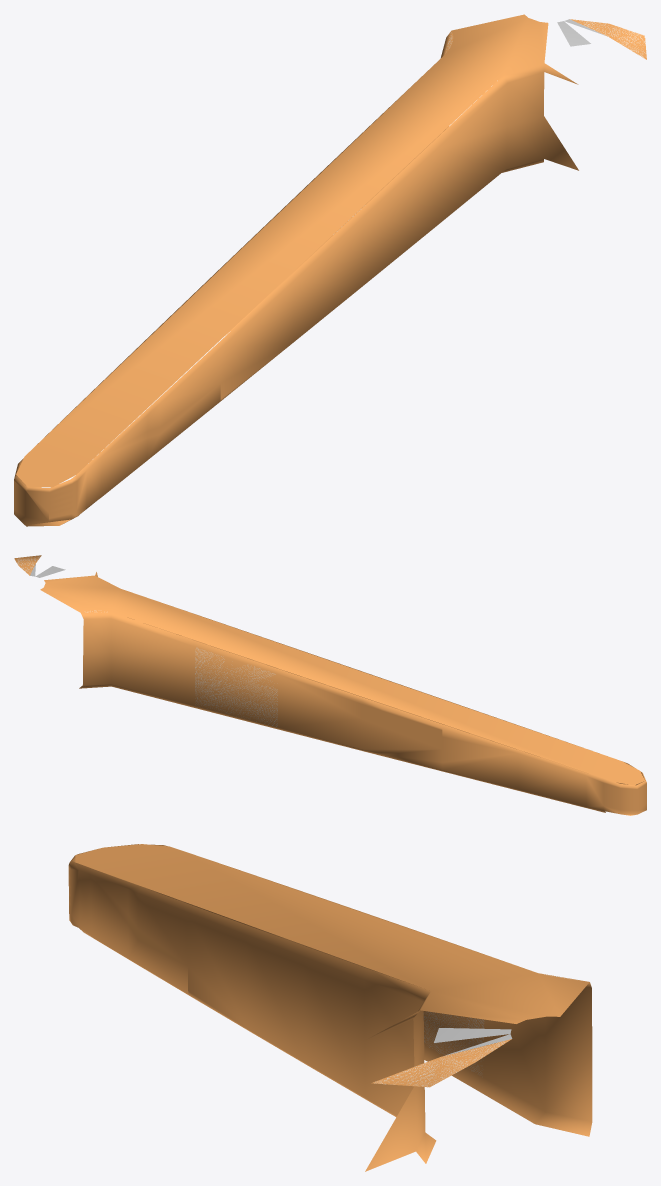
3 renders of one model, top to bottom at view 1: azimuth 30°, elevation 25°; view 2: azimuth 150°, elevation 25°; view 3: azimuth 270°, elevation 25°, orthographic. The views are drawn at different scales.
Bounding box in the file's own units: 0.5751 × 0.1836 × 0.2367.
